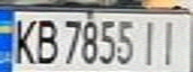5: (115, 16, 142, 66), (96, 17, 121, 66)
7: (57, 16, 81, 65)
8: (78, 16, 100, 65)
B: (30, 16, 60, 65)
I: (154, 17, 190, 68), (136, 17, 163, 68)
K: (6, 15, 39, 65)
